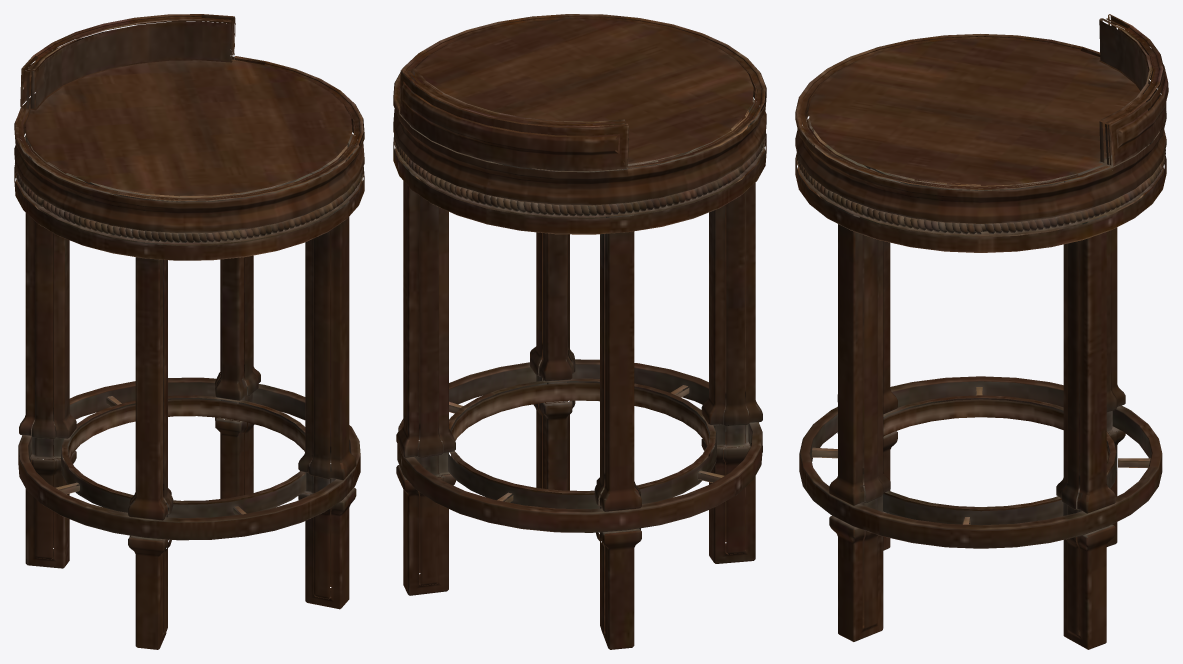
File: ph_bar_chair_round_01.glb
3 renders of one model, left to right at view 1: azimuth 30°, elevation 25°; view 2: azimuth 150°, elevation 25°; view 3: azimuth 270°, elevation 25°, orthographic. The views are drawn at different scales.
Parts seen in each view (by area): view 1: bar_chair_round_01; view 2: bar_chair_round_01; view 3: bar_chair_round_01.
Part boxes in pixels (left/top/right/bottom): bar_chair_round_01: left=14, top=14, right=364, bottom=649; bar_chair_round_01: left=393, top=14, right=766, bottom=649; bar_chair_round_01: left=795, top=14, right=1168, bottom=649.
Bounding box in the file's own units: 0.4831 × 0.7505 × 0.486.
1 material, 1 textured.
